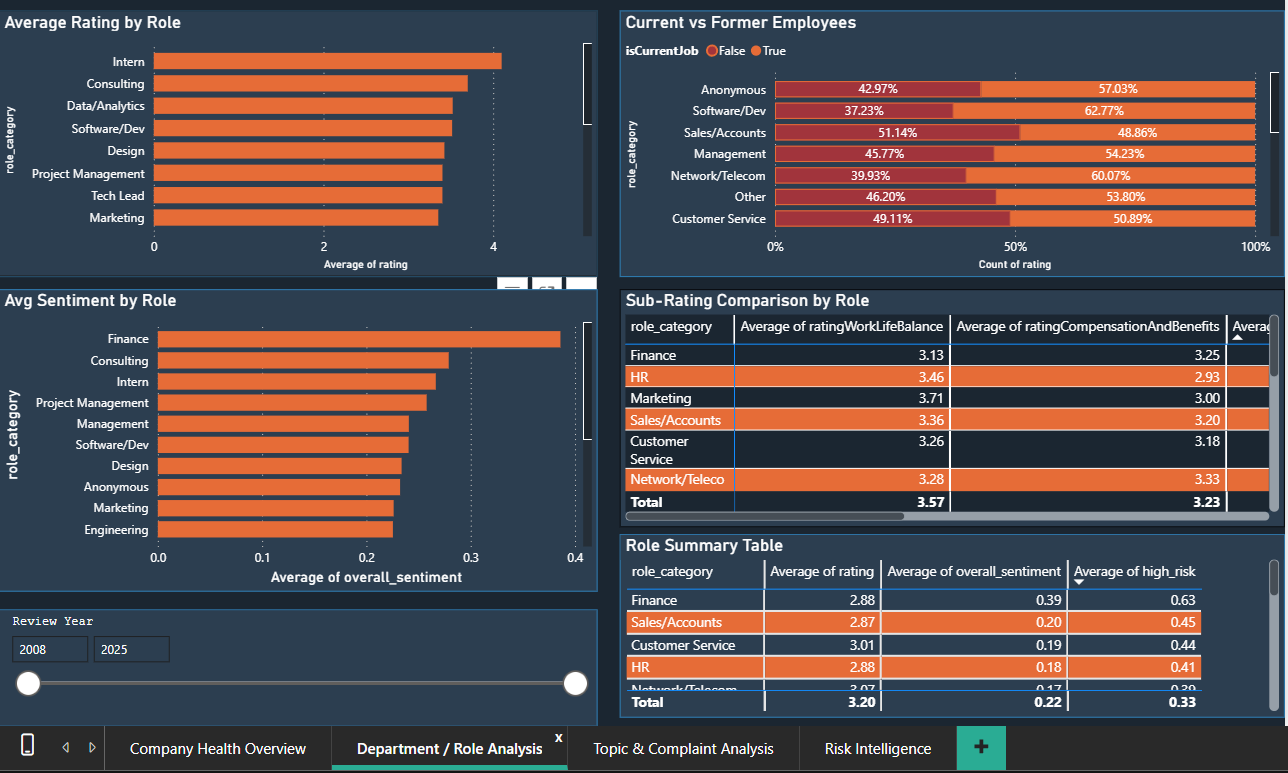

What the dashboard file says about the page in this screenshot:
{"tool":"powerbi","page":{"name":" Department / Role Analysis","canvas":[1280,720],"ordinal":1},"visuals":[{"type":"clusteredBarChart","title":"Average Rating by Role","fields":{"Category":["glassdoor_cleaned_for_powerbi.role_category"],"Y":["Avg(glassdoor_cleaned_for_powerbi.rating)"]},"box":[16.8,16.8,588.3,261.8],"z":0},{"type":"clusteredBarChart","title":"Avg Sentiment by Role","fields":{"Category":["glassdoor_cleaned_for_powerbi.role_category"],"Y":["Avg(glassdoor_cleaned_for_powerbi.overall_sentiment)"]},"box":[16.8,290.3,588.3,296.7],"z":1000},{"type":"pivotTable","title":"Sub-Rating Comparison by Role","fields":{"Rows":["glassdoor_cleaned_for_powerbi.role_category"],"Values":["Avg(glassdoor_cleaned_for_powerbi.ratingWorkLifeBalance)","Avg(glassdoor_cleaned_for_powerbi.ratingCompensationAndBenefits)","Avg(glassdoor_cleaned_for_powerbi.ratingCareerOpportunities)","Avg(glassdoor_cleaned_for_powerbi.ratingSeniorLeadership)","Avg(glassdoor_cleaned_for_powerbi.ratingCultureAndValues)"]},"box":[627.2,290.3,653.1,233.2],"z":2000},{"type":"hundredPercentStackedBarChart","title":"Current vs Former Employees","fields":{"Category":["glassdoor_cleaned_for_powerbi.role_category"],"Y":["CountNonNull(glassdoor_cleaned_for_powerbi.rating)"],"Series":["glassdoor_cleaned_for_powerbi.isCurrentJob"]},"box":[627.2,16.8,653.1,261.8],"z":3000},{"type":"tableEx","title":"Role Summary Table","fields":{"Values":["glassdoor_cleaned_for_powerbi.role_category","Avg(glassdoor_cleaned_for_powerbi.rating)","Avg(glassdoor_cleaned_for_powerbi.overall_sentiment)","Avg(glassdoor_cleaned_for_powerbi.high_risk)"]},"box":[627.2,531.3,653.1,180.1],"z":4000},{"type":"slicer","fields":{"Values":["glassdoor_cleaned_for_powerbi.review_year"]},"box":[16.8,605.1,588.3,115.3],"z":5000}]}

Visuals, with their boxes on the page's 1280x720 design canvas (x1, y1, x2, y2). These are canvas units, not pixel positions in the 1288x773 screenshot, which may show the page scaled, cropped or inside an application window:
"Average Rating by Role" clusteredBarChart: <region>17, 17, 605, 279</region>
"Avg Sentiment by Role" clusteredBarChart: <region>17, 290, 605, 587</region>
"Sub-Rating Comparison by Role" pivotTable: <region>627, 290, 1280, 524</region>
"Current vs Former Employees" hundredPercentStackedBarChart: <region>627, 17, 1280, 279</region>
"Role Summary Table" tableEx: <region>627, 531, 1280, 711</region>
slicer - glassdoor_cleaned_for_powerbi.review_year: <region>17, 605, 605, 720</region>
